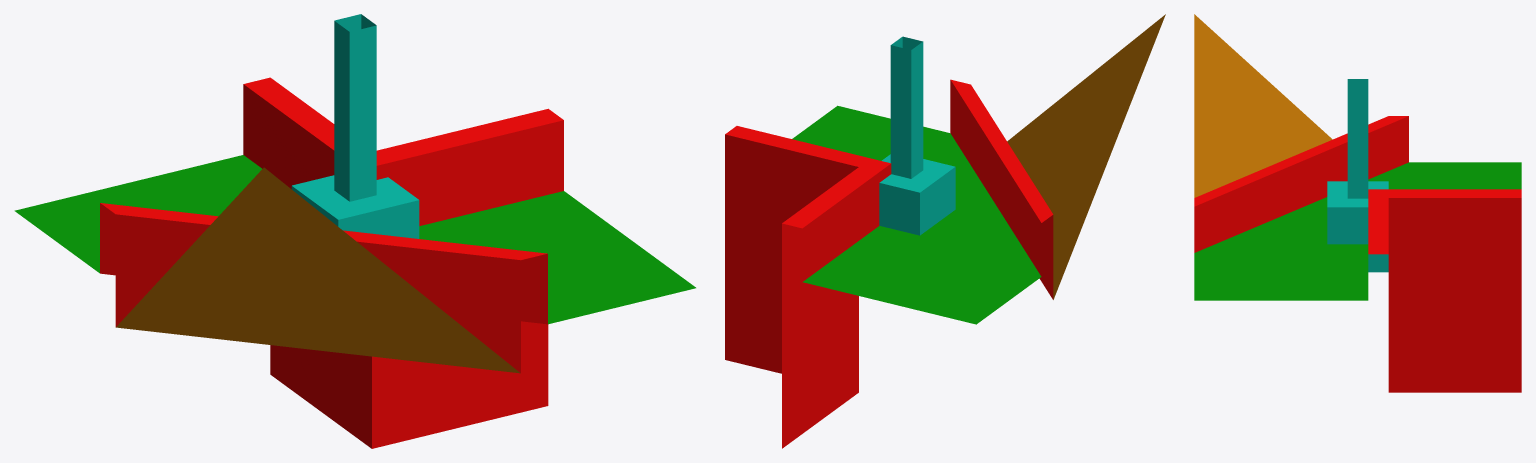
The model's file is None_E_W_E_E_W_S_E_E_BigStrut.fbx.
3 renders of one model, left to right at view 1: azimuth 30°, elevation 25°; view 2: azimuth 150°, elevation 25°; view 3: azimuth 270°, elevation 25°, orthographic. The views are drawn at different scales.
Parts seen in each view (by area): view 1: None_E_W_E_E_W_S_E_E_BigStrut; view 2: None_E_W_E_E_W_S_E_E_BigStrut; view 3: None_E_W_E_E_W_S_E_E_BigStrut.
Boxes of the visible parts, x1,y1,x2,y2 form: None_E_W_E_E_W_S_E_E_BigStrut: (14, 14, 695, 448); None_E_W_E_E_W_S_E_E_BigStrut: (725, 14, 1165, 448); None_E_W_E_E_W_S_E_E_BigStrut: (1194, 14, 1521, 392).
Size of the model in its own units: 100 by 100 by 100.
